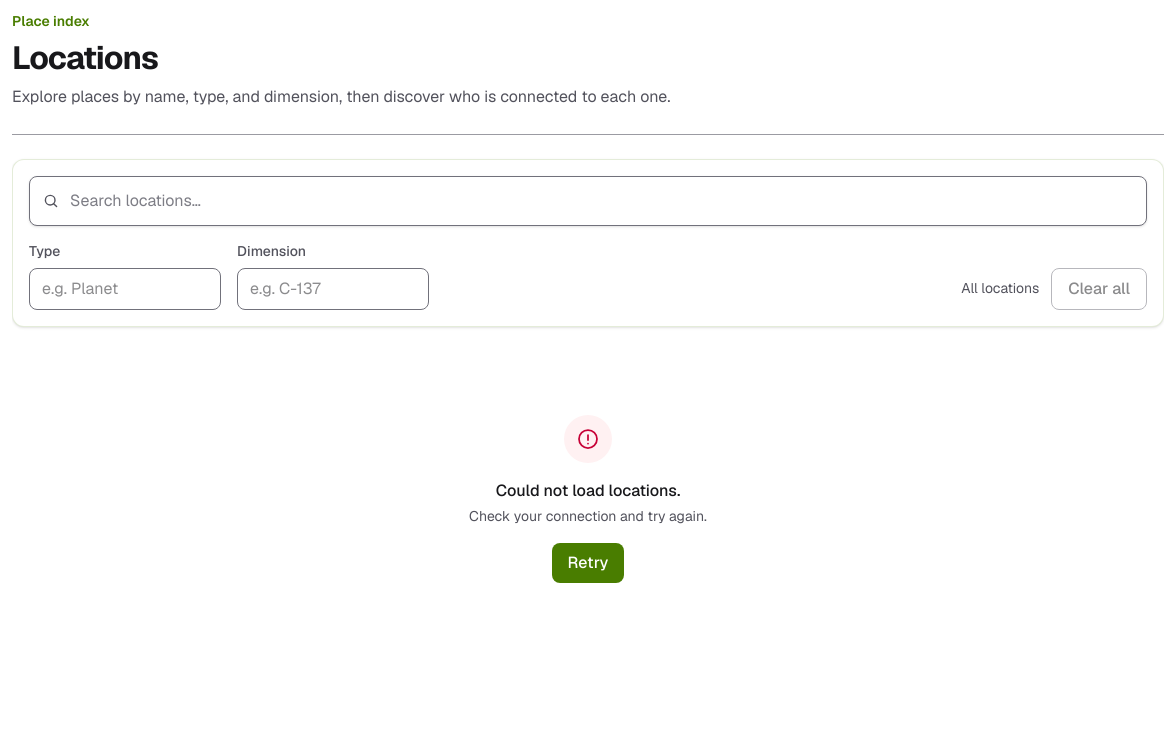
it: LocationBrowser (integration: filter bar + results + GraphQL layer) › shows an error state and recovers via Retry
expect the text "Could not load locations." is shown: met, box [496, 480, 680, 501]
Click the button "Retry" at (588, 563), box [552, 543, 624, 583]
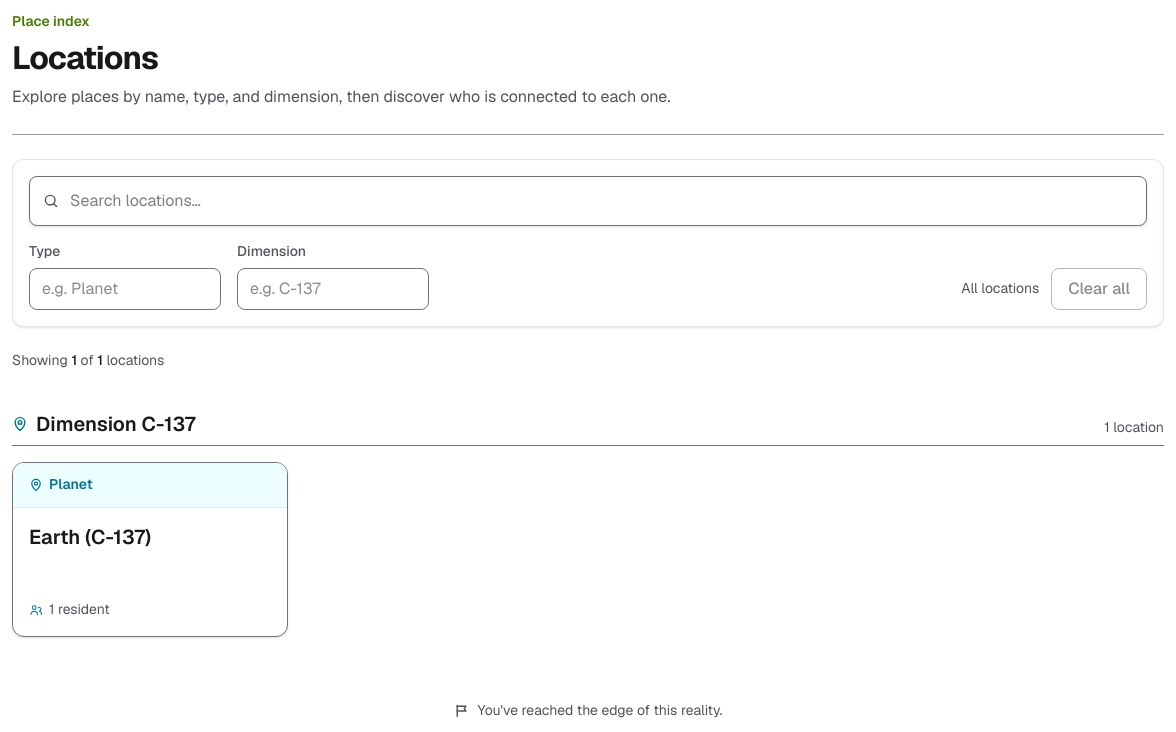
expect the heading "Earth (C-137)" is shown: met, box [29, 524, 151, 550]
